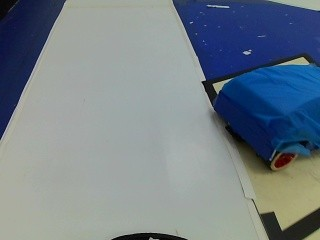car: (216, 60, 320, 171)
